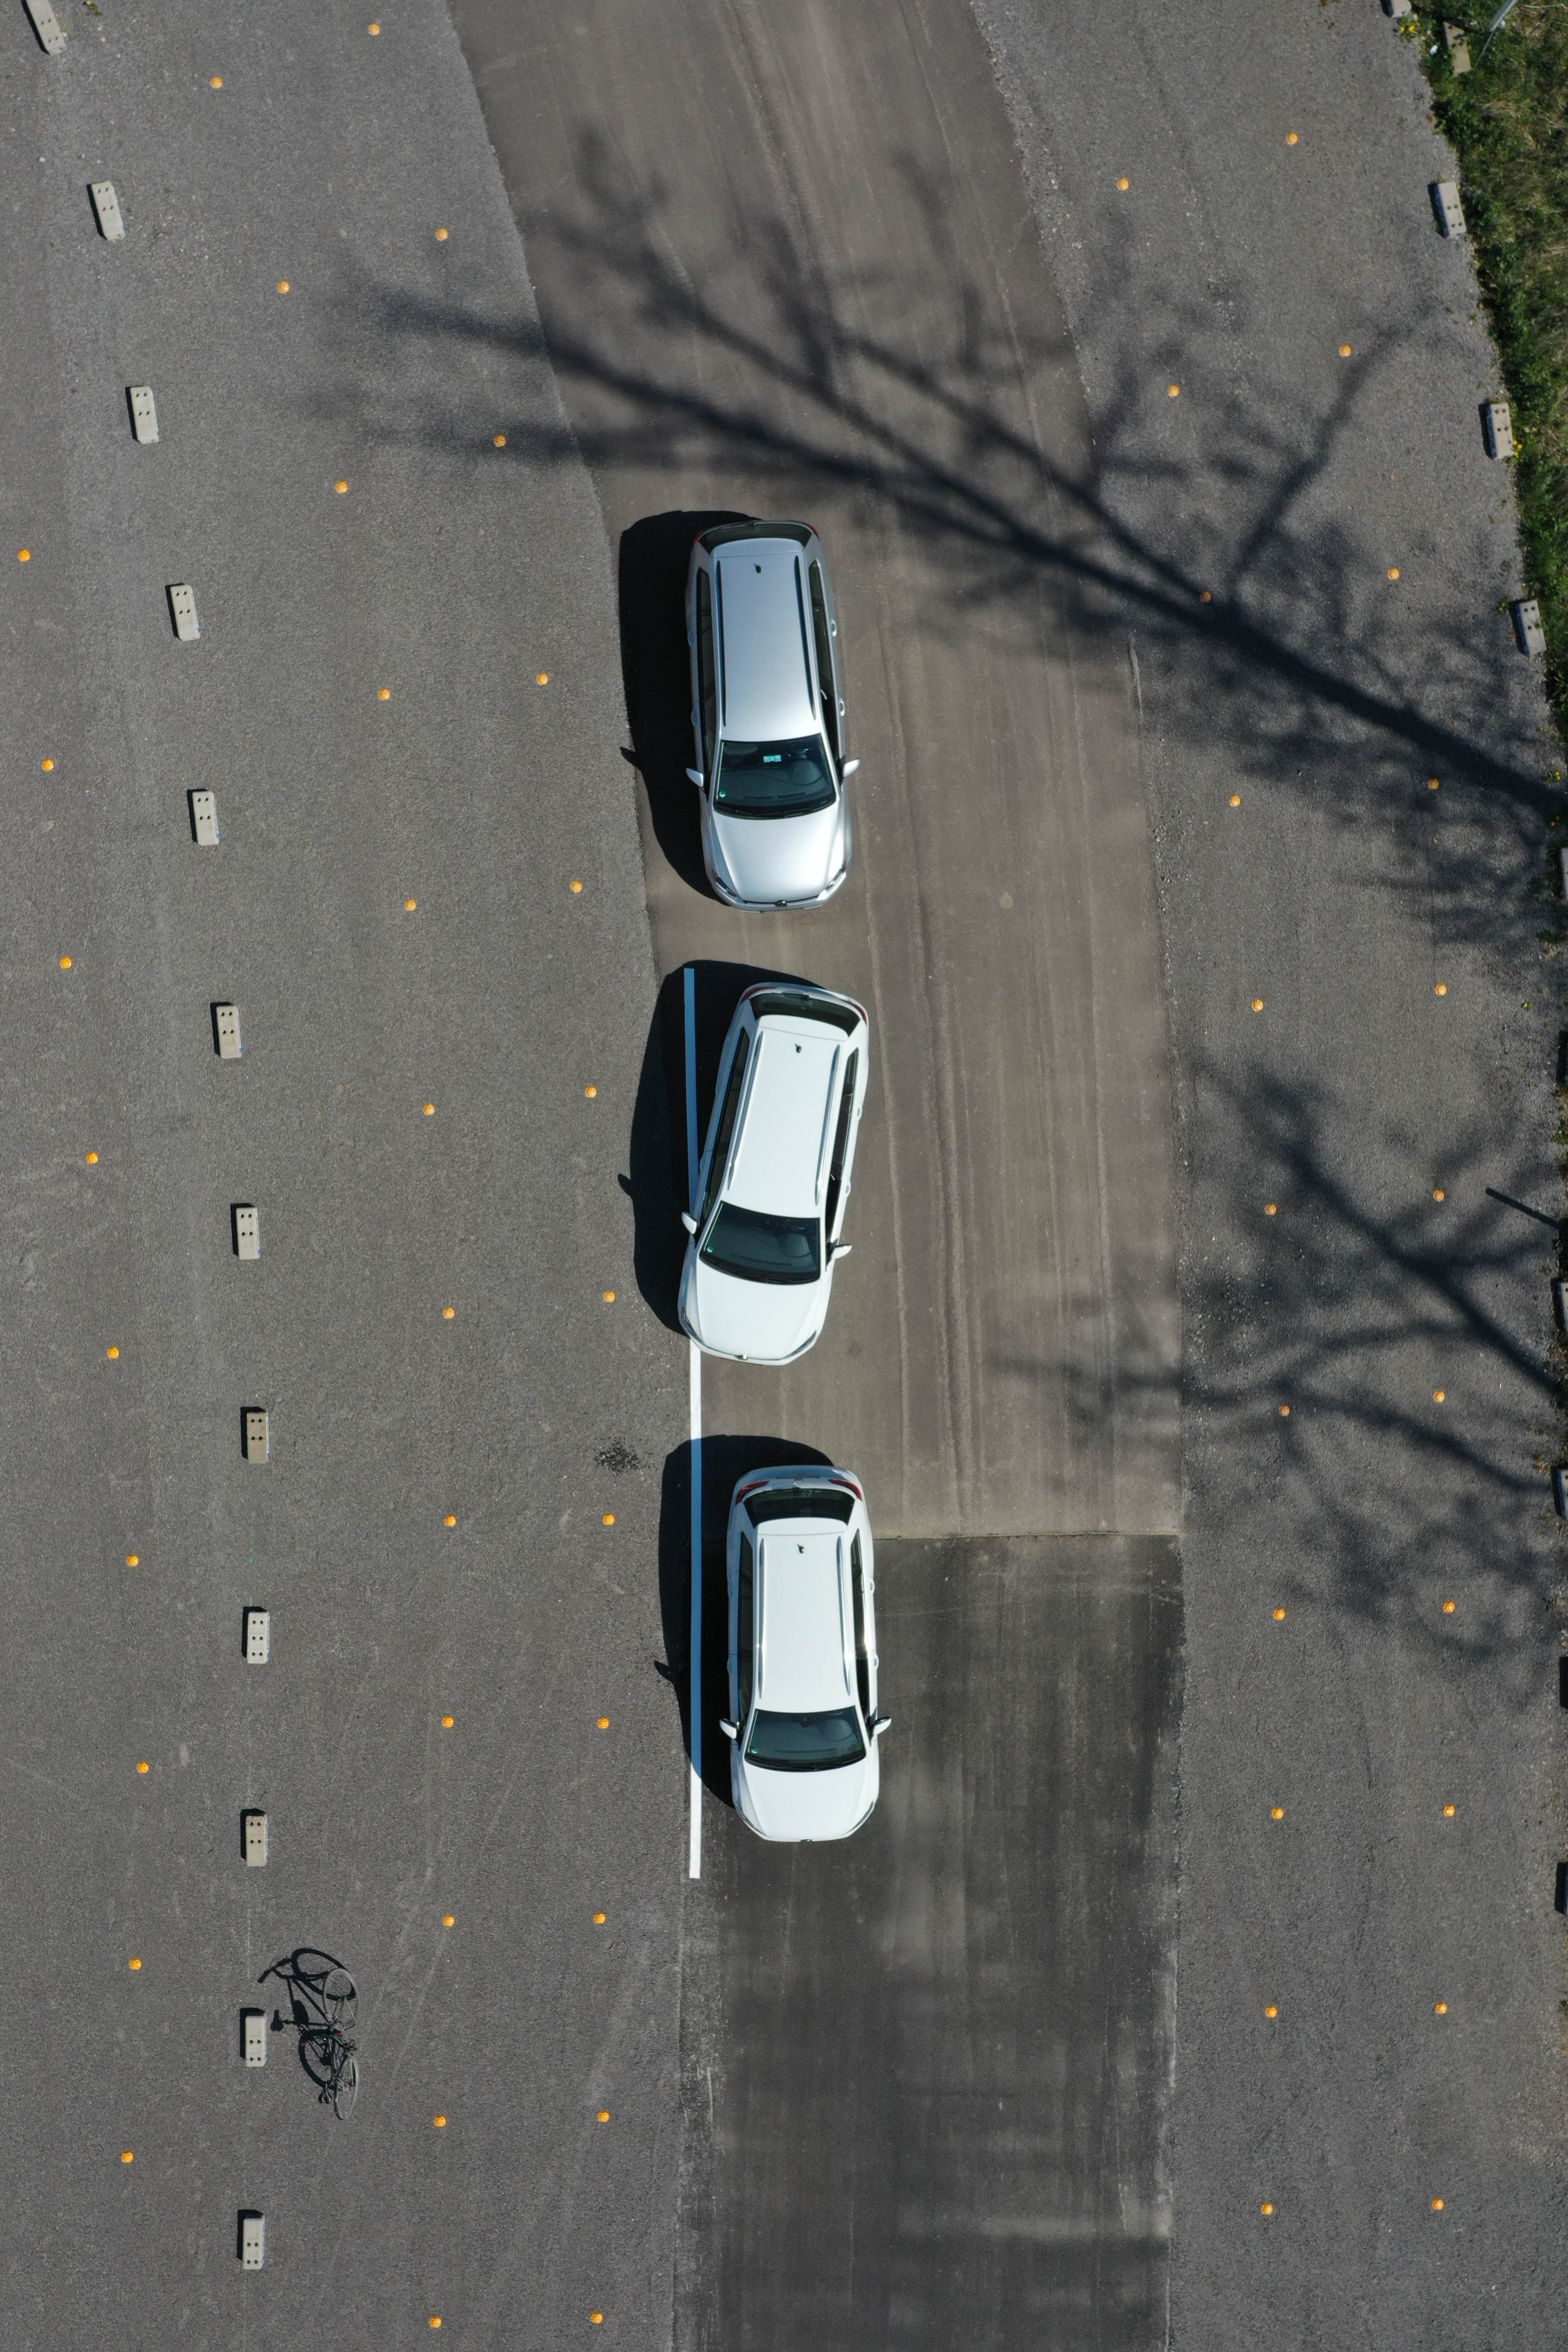Car: (654, 976, 891, 1374), (668, 514, 856, 924), (716, 1456, 873, 1855)
LaneMark: (686, 1360, 705, 1879), (679, 964, 700, 1150)
